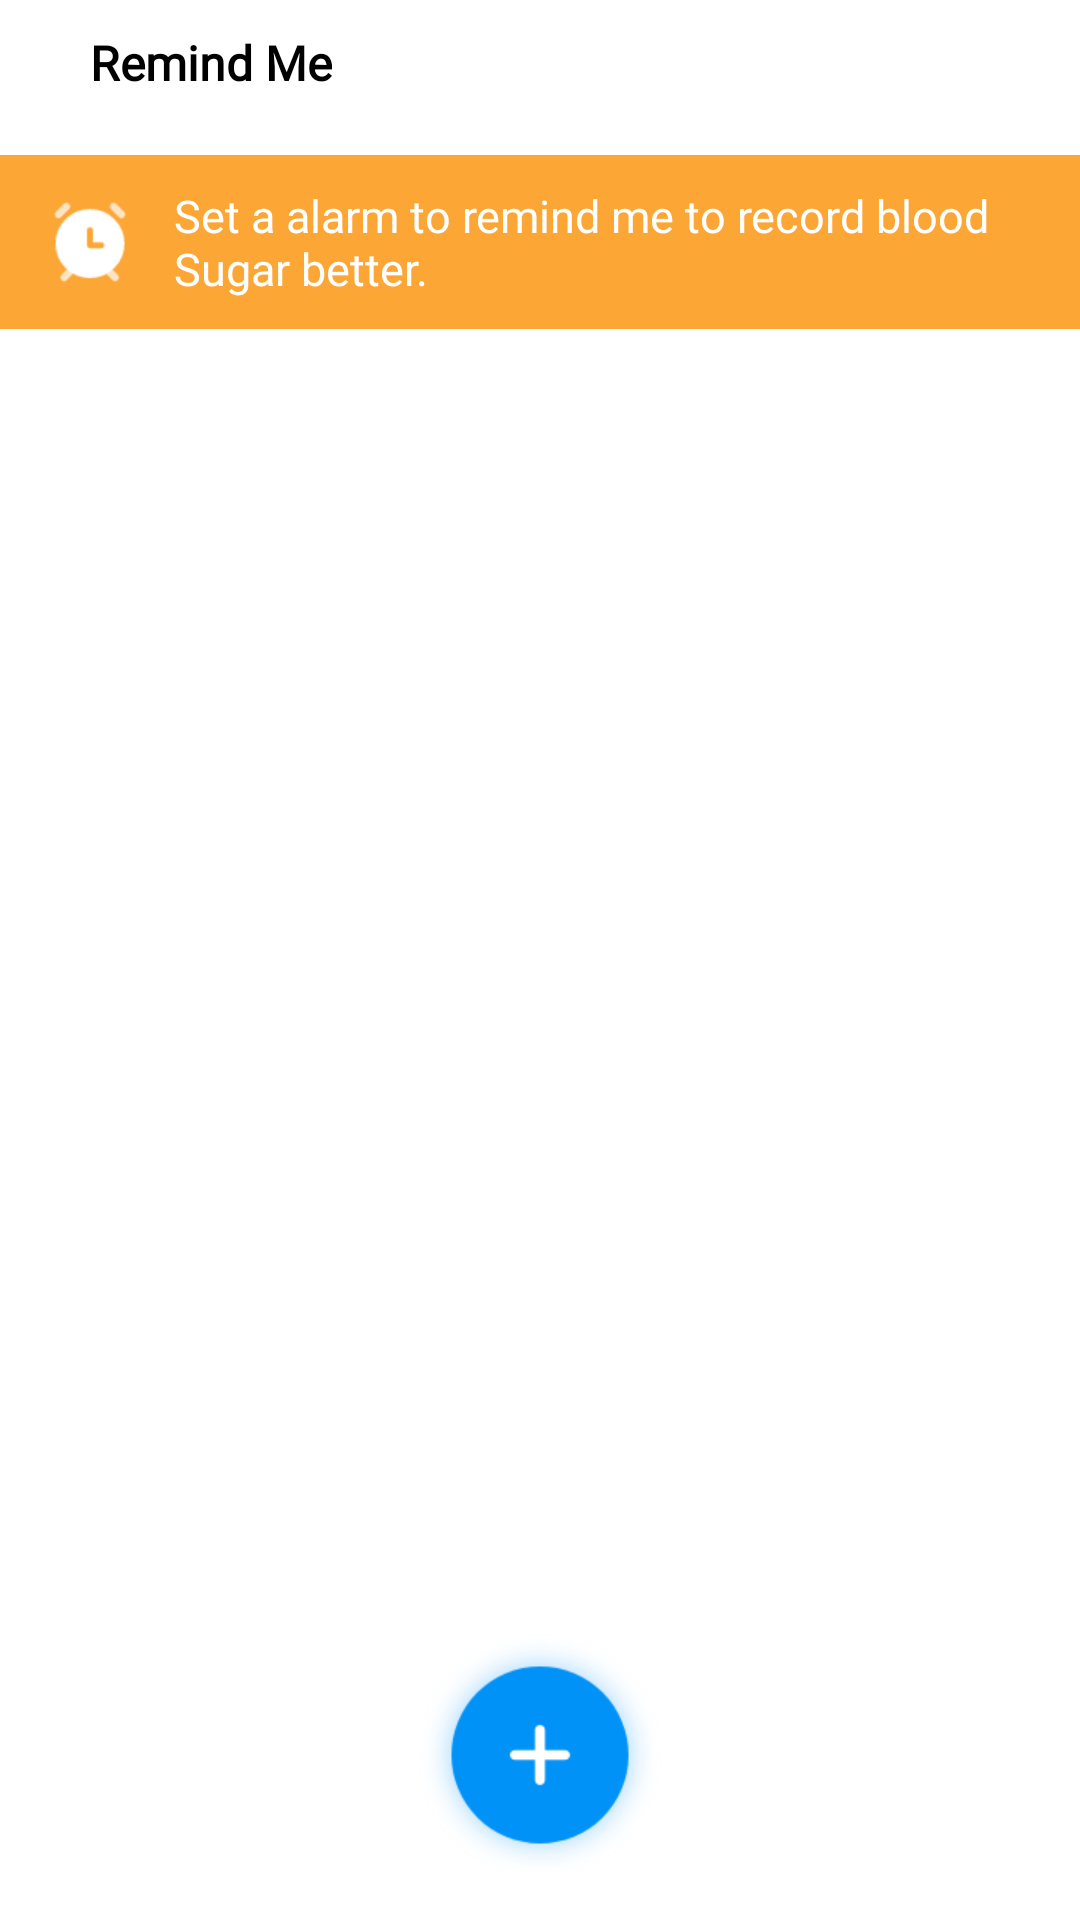

Where to tap for icons on this 1080w x 1920h app screen, as [x,y]:
add: [540,1755]
